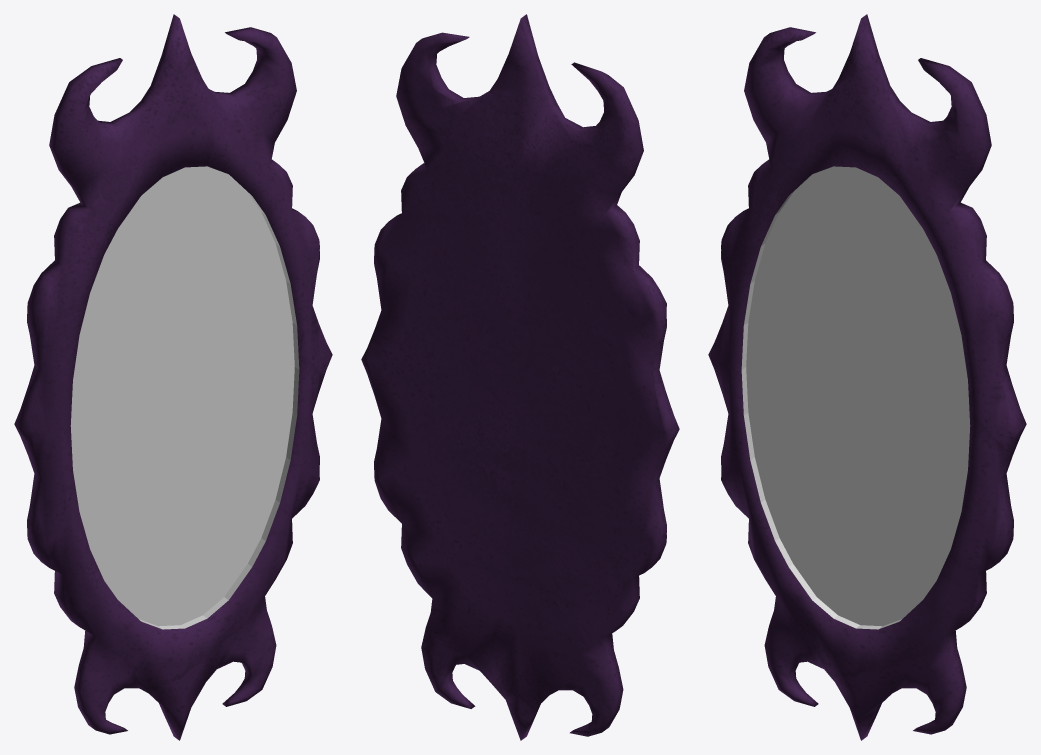
Rendered from Mirror.fbx.
The picture shows the model from 3 angles, left to right: view 1: azimuth 30°, elevation 25°; view 2: azimuth 150°, elevation 25°; view 3: azimuth 330°, elevation 25°; orthographic projection.
Parts seen in each view (by area): view 1: Mirror; view 2: Mirror; view 3: Mirror.
Part boxes in pixels (x1=…): Mirror: x1=14, y1=14, x2=332, y2=740; Mirror: x1=361, y1=14, x2=679, y2=740; Mirror: x1=708, y1=14, x2=1026, y2=740.
Bounding box in the file's own units: 0.6767 × 1.51 × 0.0597.
